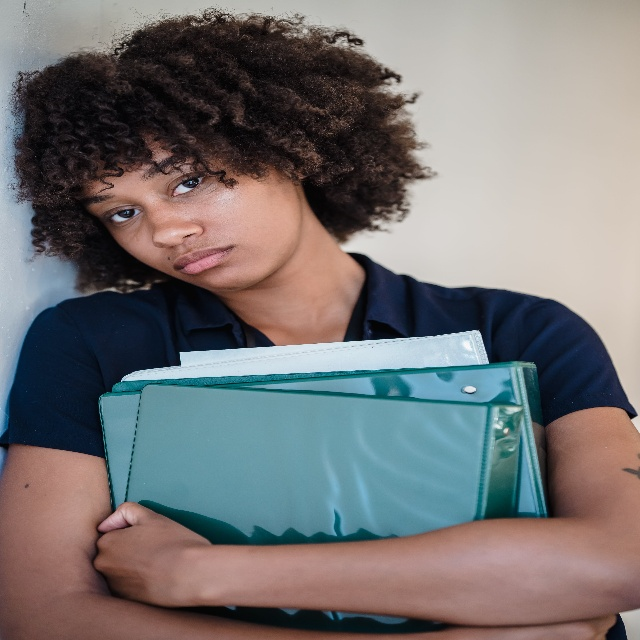Sin_guantes: (93, 501, 212, 608)
